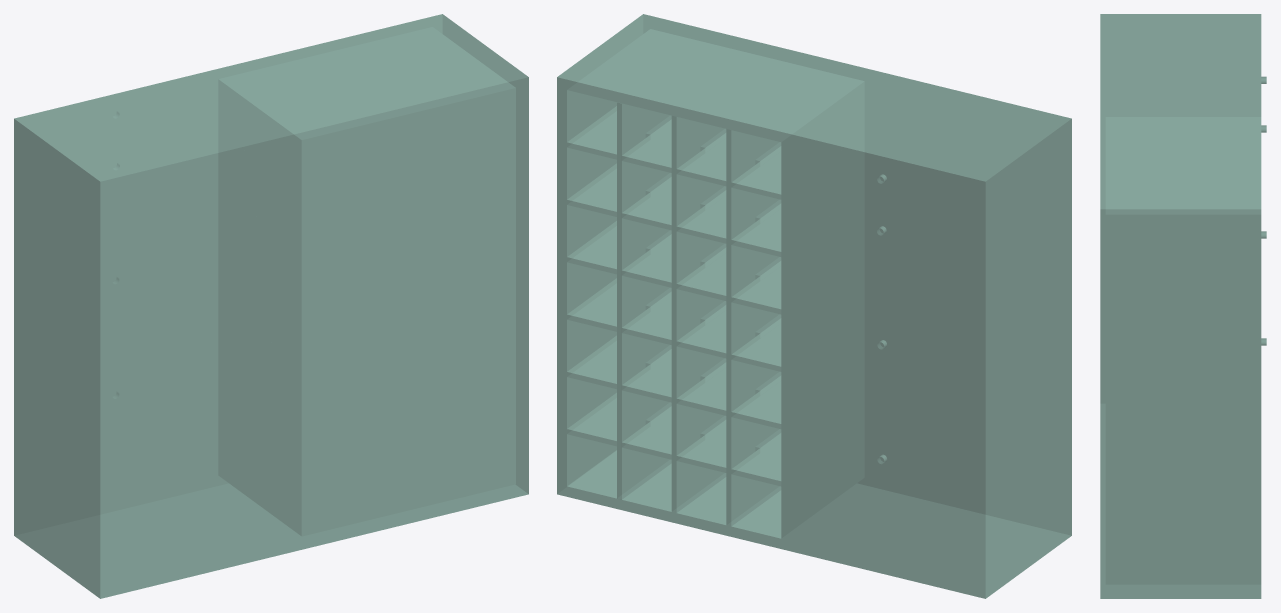
3 renders of one model, left to right at view 1: azimuth 30°, elevation 25°; view 2: azimuth 150°, elevation 25°; view 3: azimuth 270°, elevation 25°, orthographic. The views are drawn at different scales.
Visible parts, largest first — view 1: mesh19_mesh19-geometry, mesh3_mesh3-geometry, mesh2_mesh2-geometry, mesh7_mesh7-geometry, mesh1_mesh1-geometry, mesh9_mesh9-geometry, mesh11_mesh11-geometry; view 2: mesh19_mesh19-geometry, mesh2_mesh2-geometry, mesh3_mesh3-geometry, mesh1_mesh1-geometry, mesh12_mesh12-geometry, mesh13_mesh13-geometry, mesh10_mesh10-geometry, mesh9_mesh9-geometry, mesh11_mesh11-geometry, mesh7_mesh7-geometry; view 3: mesh19_mesh19-geometry, mesh7_mesh7-geometry, mesh3_mesh3-geometry.
Part boxes in pixels (<box>): mesh19_mesh19-geometry: <box>14,14,528,598</box>; mesh3_mesh3-geometry: <box>281,72,356,523</box>; mesh2_mesh2-geometry: <box>327,53,410,510</box>; mesh7_mesh7-geometry: <box>219,420,515,483</box>; mesh1_mesh1-geometry: <box>461,101,465,496</box>; mesh9_mesh9-geometry: <box>218,362,515,426</box>; mesh11_mesh11-geometry: <box>218,247,430,311</box>; mesh19_mesh19-geometry: <box>557,14,1071,598</box>; mesh2_mesh2-geometry: <box>671,56,757,512</box>; mesh3_mesh3-geometry: <box>726,69,808,526</box>; mesh1_mesh1-geometry: <box>617,102,671,499</box>; mesh12_mesh12-geometry: <box>567,163,864,256</box>; mesh13_mesh13-geometry: <box>567,106,864,199</box>; mesh10_mesh10-geometry: <box>567,278,864,371</box>; mesh9_mesh9-geometry: <box>567,335,864,429</box>; mesh11_mesh11-geometry: <box>567,221,864,314</box>; mesh7_mesh7-geometry: <box>567,392,864,486</box>; mesh19_mesh19-geometry: <box>1100,14,1266,598</box>; mesh7_mesh7-geometry: <box>1106,531,1260,535</box>; mesh3_mesh3-geometry: <box>1106,140,1260,141</box>.
Size of the model in its own units: 0.7079 by 0.6586 by 0.2552.
